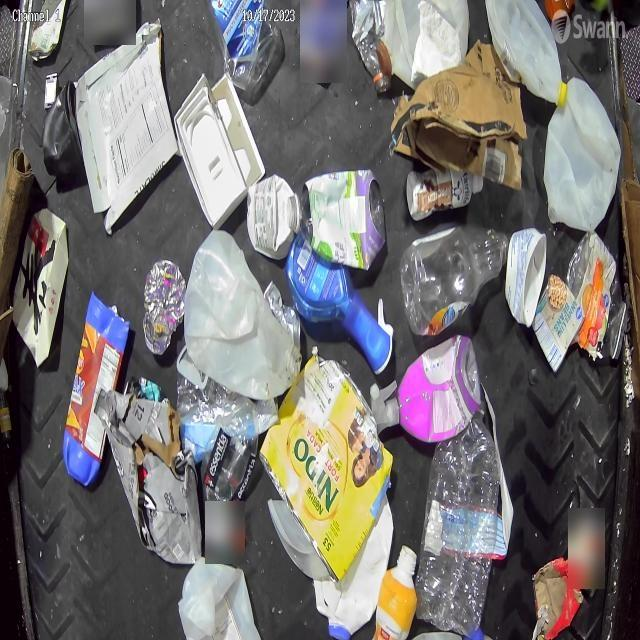milk_jug: (181, 241, 304, 398), (542, 76, 620, 230), (486, 0, 566, 104), (178, 556, 261, 640)
plastic_bottle: (419, 430, 512, 636), (400, 224, 506, 340), (568, 232, 628, 362), (350, 1, 396, 98)
